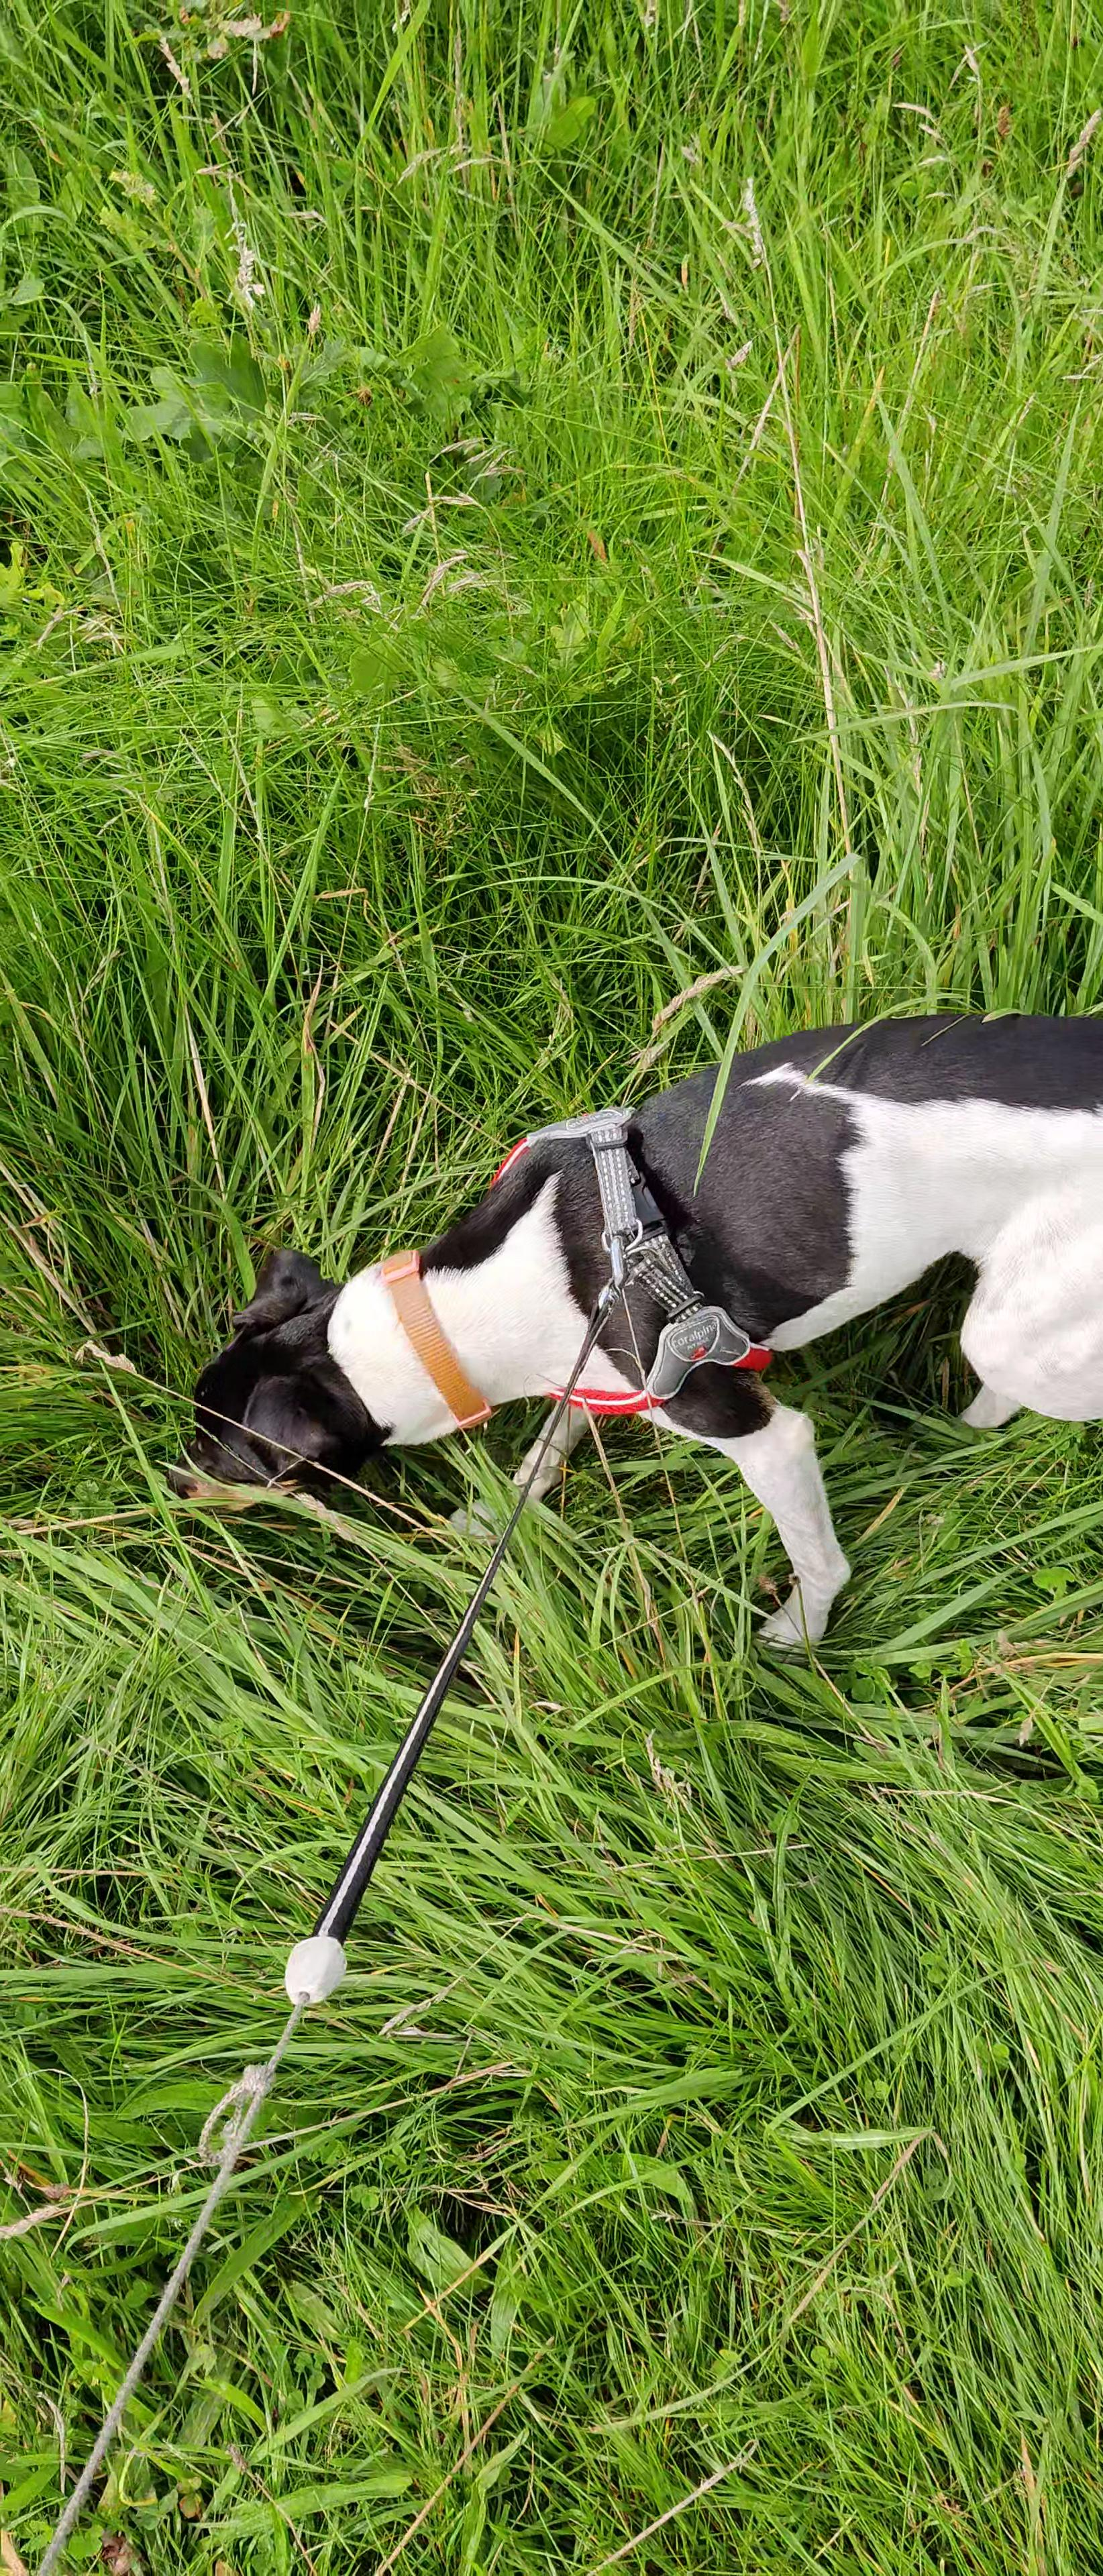Dog: (163, 1002, 1103, 1658)
